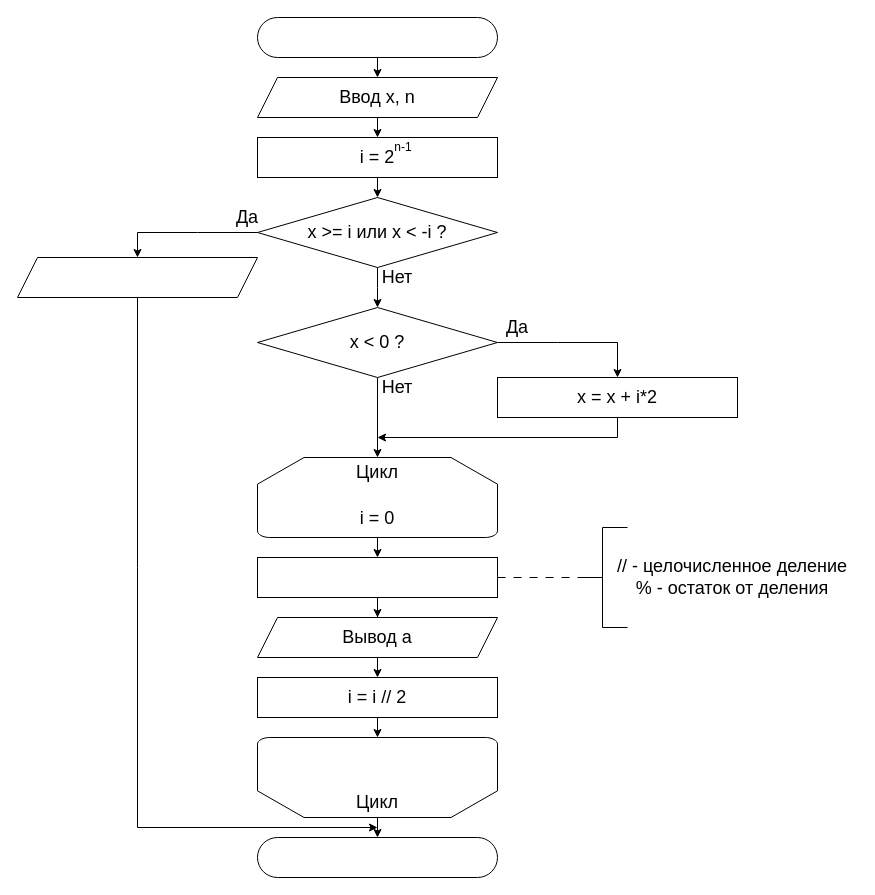
The diagram is 875 pixels wide and 895 high, and some of its shapes have lost their labels. Each missing label, with the box of its shape:
a = x // i % 2: (256, 556, 498, 598)
Вывод ошибка: (16, 256, 258, 298)
Конец: (256, 836, 498, 878)
Начало: (256, 16, 498, 58)
